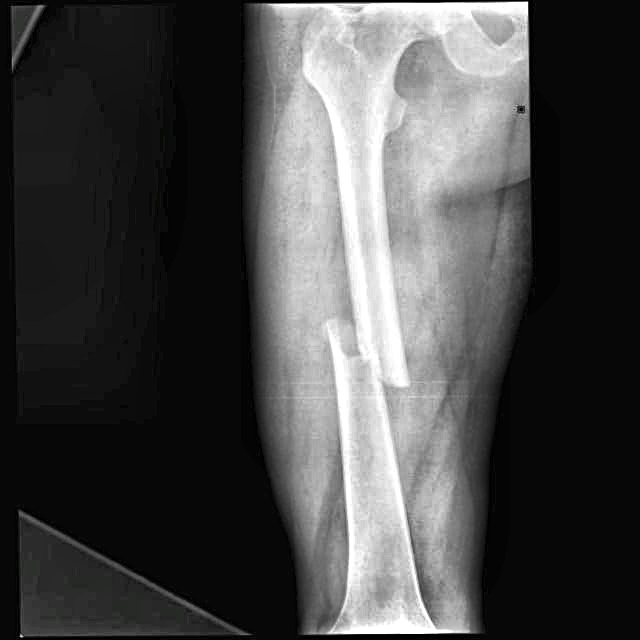Transverse: (304, 297, 429, 435)
